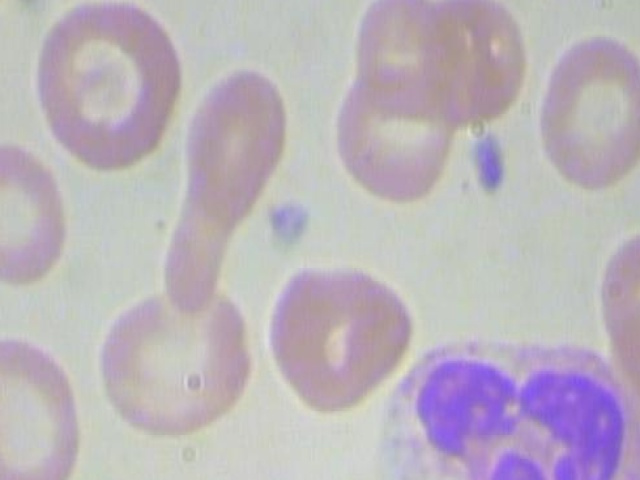Platelets: (256, 193, 314, 256), (470, 127, 515, 206)
RBC: (153, 60, 294, 317), (90, 270, 257, 448), (264, 249, 424, 431), (29, 0, 194, 175), (526, 23, 640, 203), (330, 58, 452, 206), (407, 0, 529, 131), (0, 334, 95, 480), (0, 125, 74, 288), (343, 0, 454, 98), (598, 278, 640, 447), (590, 223, 640, 360)
WBC: (349, 326, 640, 480)
